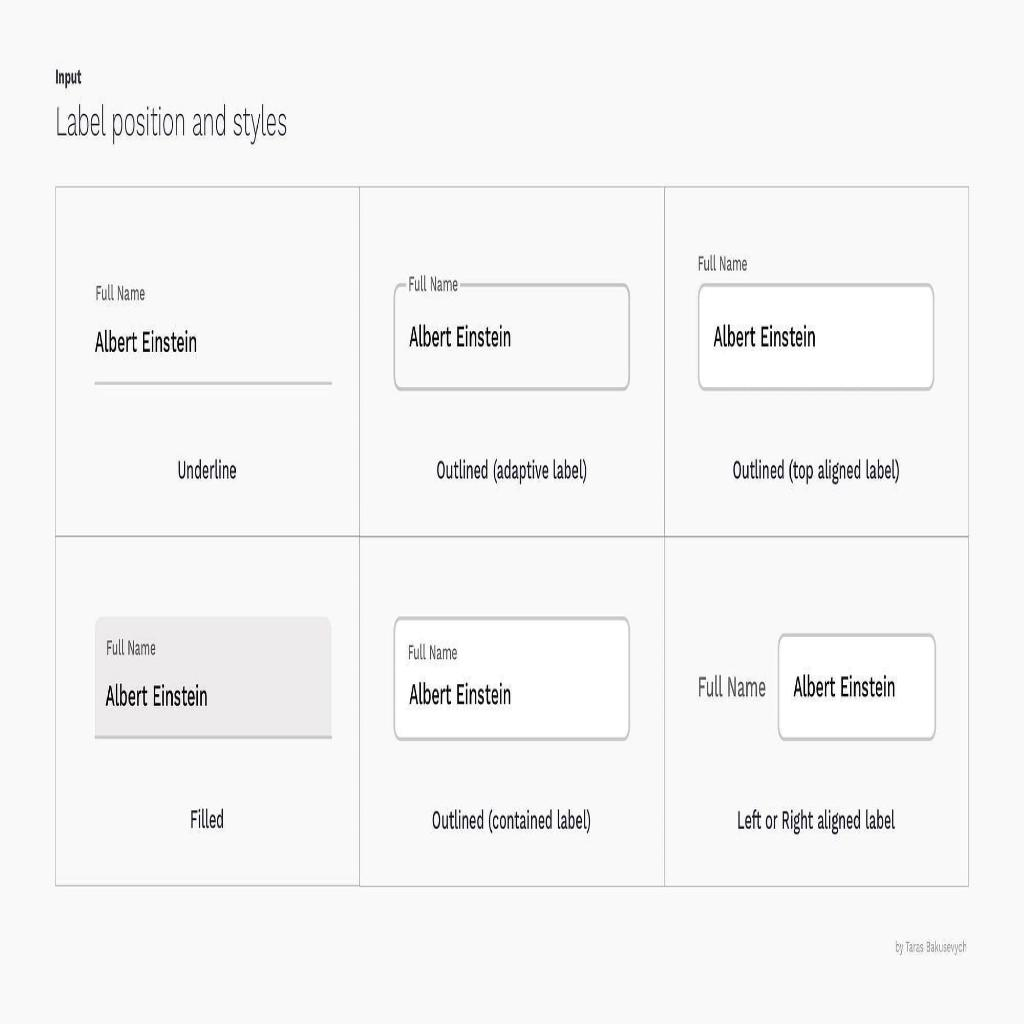input: (95, 615, 333, 739), (394, 620, 632, 744), (700, 280, 934, 394), (393, 283, 630, 391), (778, 636, 936, 740)
label: (691, 659, 770, 708), (409, 270, 460, 302), (90, 284, 152, 307), (696, 251, 747, 277)
